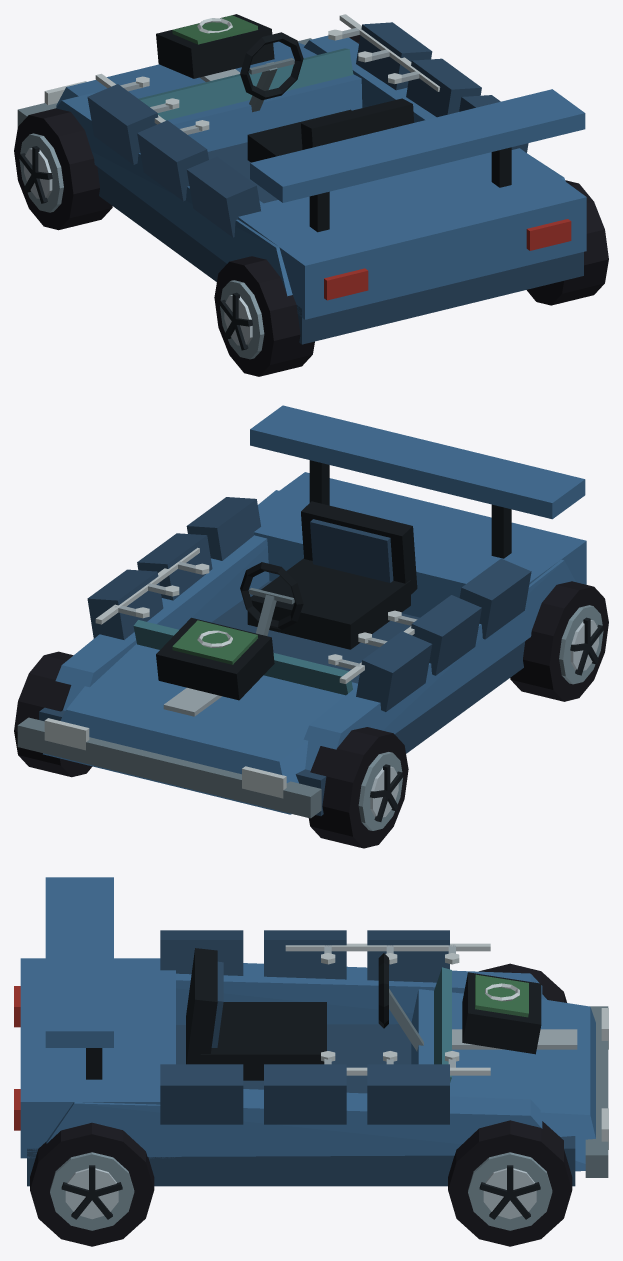
The model's file is kart.glb.
The picture shows the model from 3 angles, top to bottom: view 1: azimuth 30°, elevation 25°; view 2: azimuth 150°, elevation 25°; view 3: azimuth 270°, elevation 25°; orthographic projection. The views are drawn at different scales.
Visible parts, largest first — view 1: identity-sports-car-sports-car-road-car-body, identity-sports-car-motif-armor, wheel-front-left, wheel-rear-left, identity-sports-car-driver-cockpit, identity-sports-car-motif-scanner, wheel-rear-right, identity-sports-car-motif-circuit; view 2: identity-sports-car-sports-car-road-car-body, identity-sports-car-motif-armor, identity-sports-car-driver-cockpit, wheel-front-left, wheel-rear-left, identity-sports-car-motif-scanner, wheel-front-right, identity-sports-car-motif-circuit; view 3: identity-sports-car-sports-car-road-car-body, identity-sports-car-motif-armor, wheel-front-right, identity-sports-car-driver-cockpit, wheel-rear-right, identity-sports-car-motif-scanner, identity-sports-car-motif-circuit, wheel-front-left.
Part boxes in pixels (box(x1,y1,x2,y2)): identity-sports-car-sports-car-road-car-body: box(17, 35, 586, 344); identity-sports-car-motif-armor: box(87, 22, 528, 237); wheel-front-left: box(14, 108, 112, 230); wheel-rear-left: box(214, 256, 314, 376); identity-sports-car-driver-cockpit: box(240, 32, 414, 162); identity-sports-car-motif-scanner: box(156, 14, 274, 78); wheel-rear-right: box(527, 180, 608, 305); identity-sports-car-motif-circuit: box(95, 14, 440, 134); identity-sports-car-sports-car-road-car-body: box(17, 405, 586, 818); identity-sports-car-motif-armor: box(87, 497, 531, 711); identity-sports-car-driver-cockpit: box(240, 501, 417, 649); wheel-front-left: box(308, 727, 408, 848); wheel-rear-left: box(510, 581, 608, 701); identity-sports-car-motif-scanner: box(156, 617, 274, 700); wheel-front-right: box(14, 651, 92, 777); identity-sports-car-motif-circuit: box(95, 547, 417, 683); identity-sports-car-sports-car-road-car-body: box(14, 877, 608, 1186); identity-sports-car-motif-armor: box(160, 930, 449, 1124); wheel-front-right: box(448, 1120, 572, 1246); identity-sports-car-driver-cockpit: box(186, 948, 423, 1080); wheel-rear-right: box(30, 1122, 154, 1246); identity-sports-car-motif-scanner: box(462, 972, 541, 1054); identity-sports-car-motif-circuit: box(285, 943, 490, 1075); wheel-front-left: box(479, 963, 566, 1002).
Bounding box in the file's own units: 2.07 × 1.11 × 2.88.
